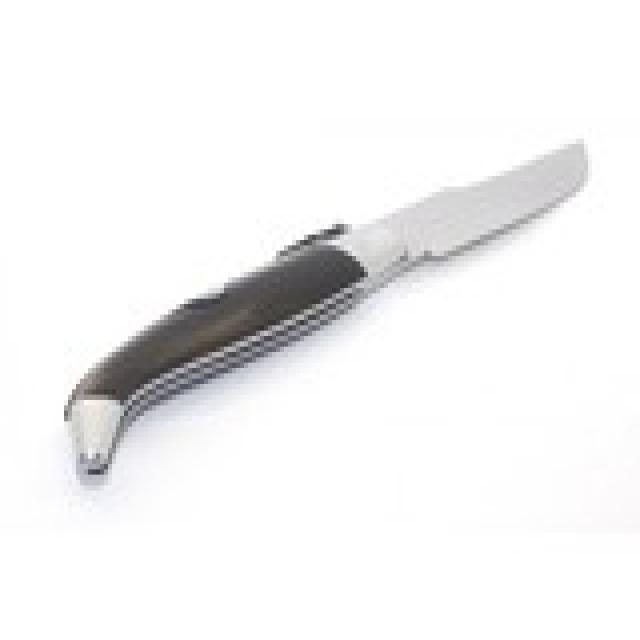Knife: (46, 130, 594, 500)
